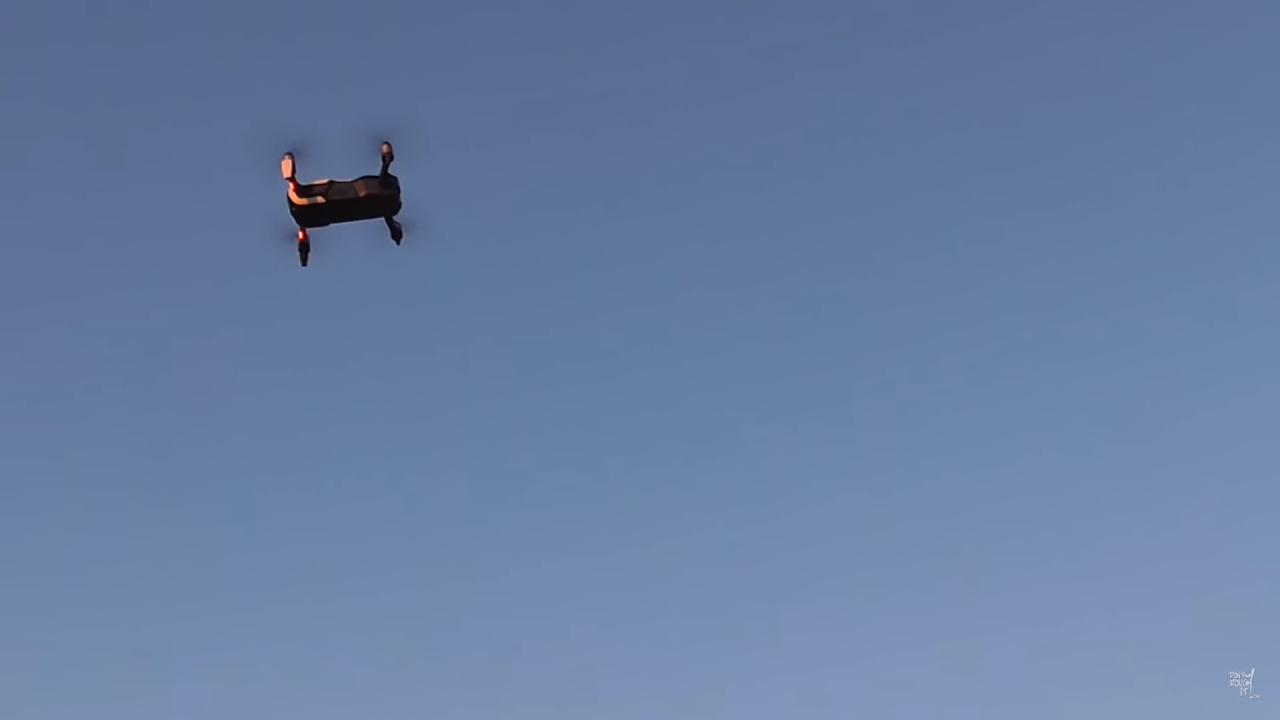Drone: (265, 130, 420, 282)
